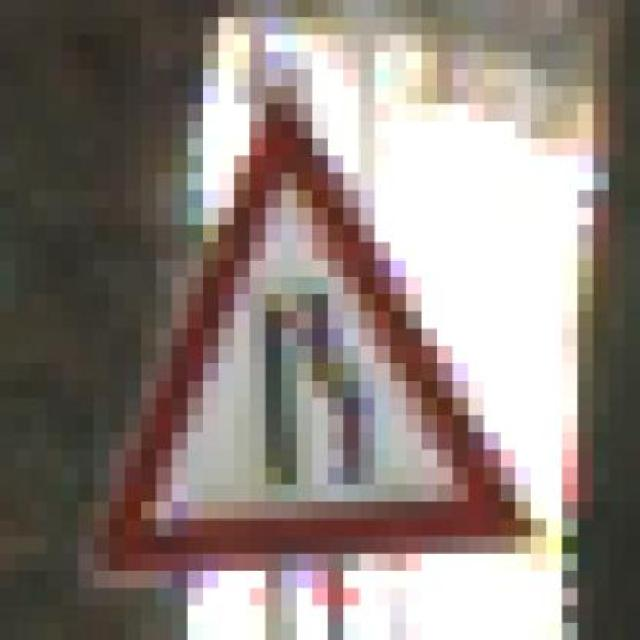-Road narrows on right: (47, 86, 547, 588)
